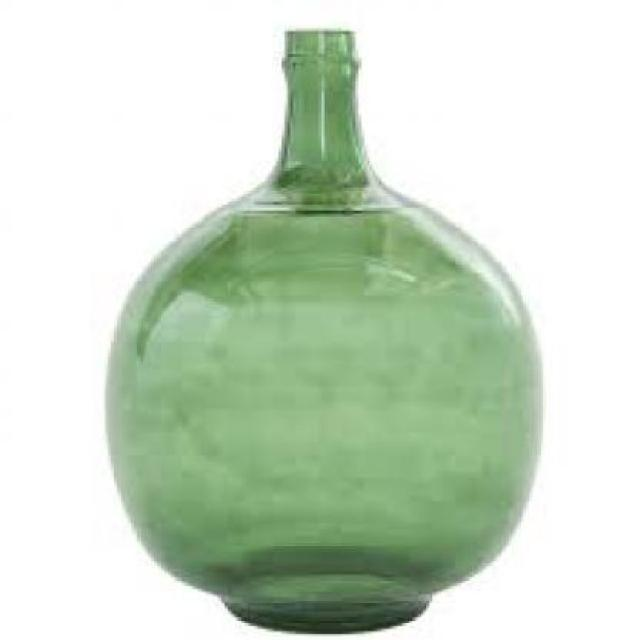kaca: (103, 26, 540, 632)
